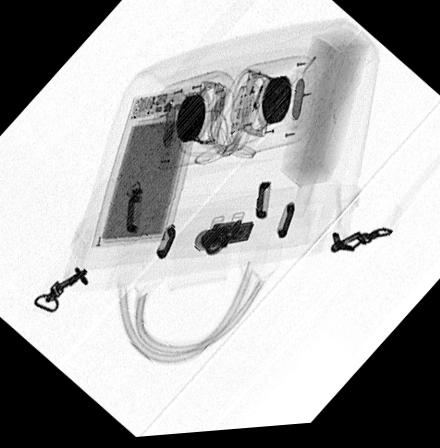Powerbank: (90, 89, 204, 249)
